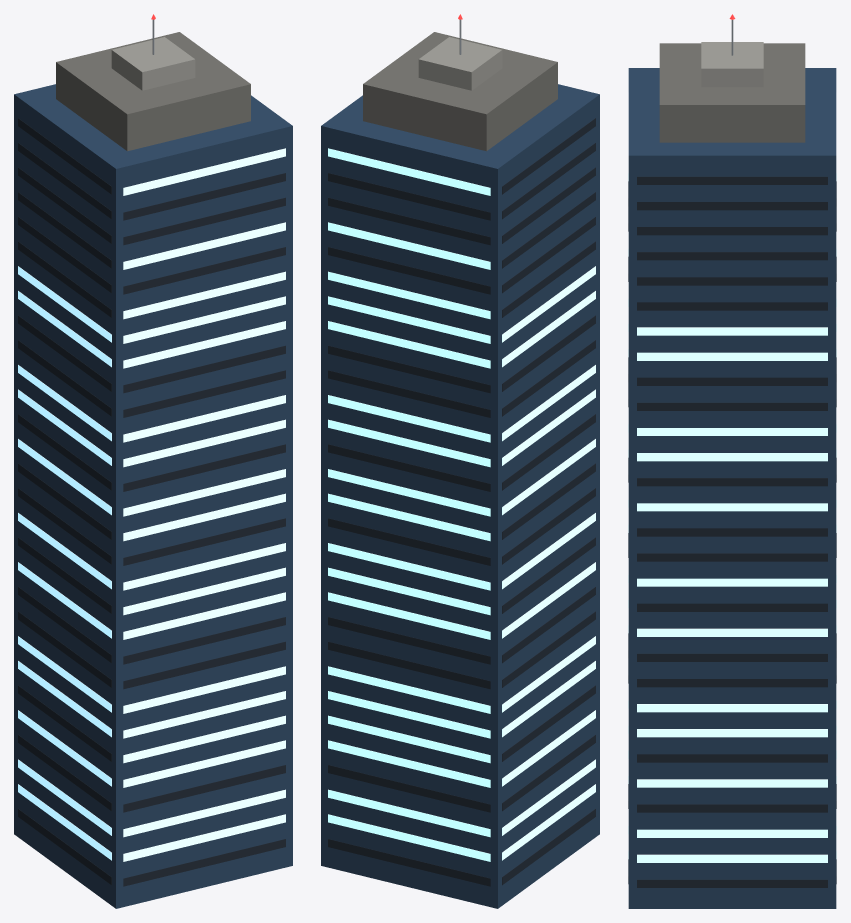
The model's file is skyskrapa_1.glb.
The picture shows the model from 3 angles, left to right: view 1: azimuth 30°, elevation 25°; view 2: azimuth 150°, elevation 25°; view 3: azimuth 270°, elevation 25°; orthographic projection.
Parts seen in each view (by area): view 1: skyskrapa_1; view 2: skyskrapa_1; view 3: skyskrapa_1.
Boxes of the visible parts, x1,y1,x2,y2 form: skyskrapa_1: (14, 14, 292, 908); skyskrapa_1: (321, 14, 599, 908); skyskrapa_1: (628, 14, 836, 908).
Size of the model in its own units: 30.1 by 136 by 30.1.
